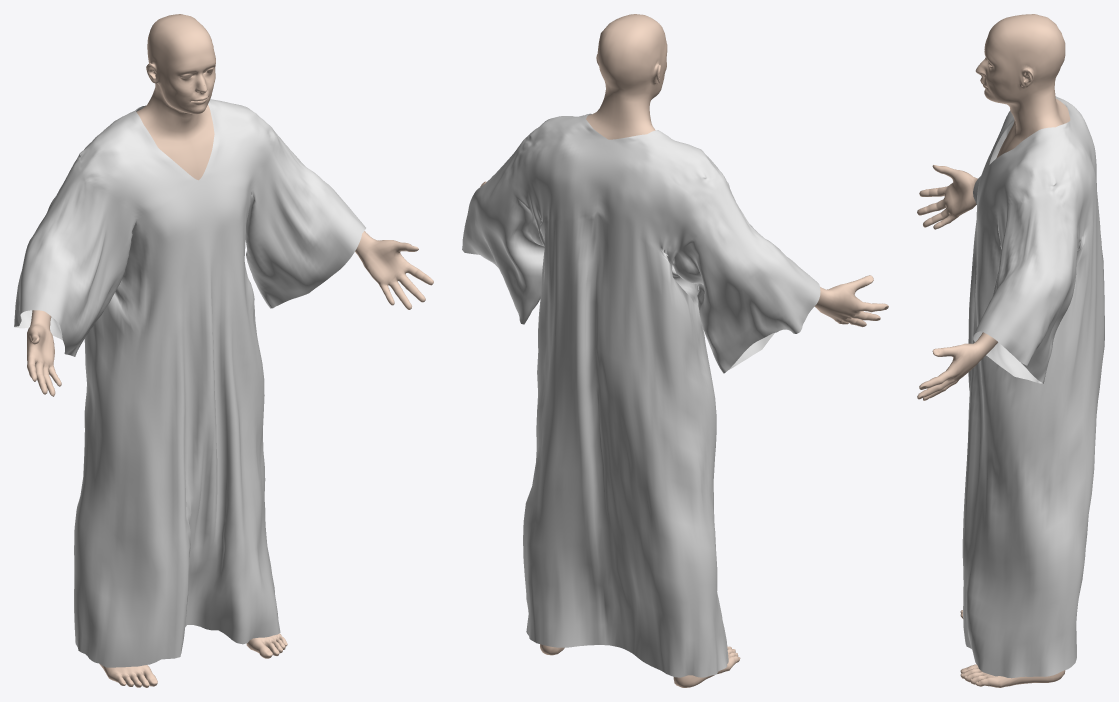
Rendered from Monk.fbx.
3 renders of one model, left to right at view 1: azimuth 30°, elevation 25°; view 2: azimuth 150°, elevation 25°; view 3: azimuth 270°, elevation 25°, orthographic.
Visible parts, largest first — view 1: monk_tunica, monk; view 2: monk_tunica, monk; view 3: monk_tunica, monk.
Part boxes in pixels (bbox=[...]): monk_tunica: bbox=[14, 99, 365, 667]; monk: bbox=[27, 14, 433, 687]; monk_tunica: bbox=[462, 113, 820, 677]; monk: bbox=[480, 14, 888, 687]; monk_tunica: bbox=[962, 96, 1104, 678]; monk: bbox=[917, 14, 1070, 687].
Size of the model in its own units: 1.21 by 1.82 by 0.4923.
